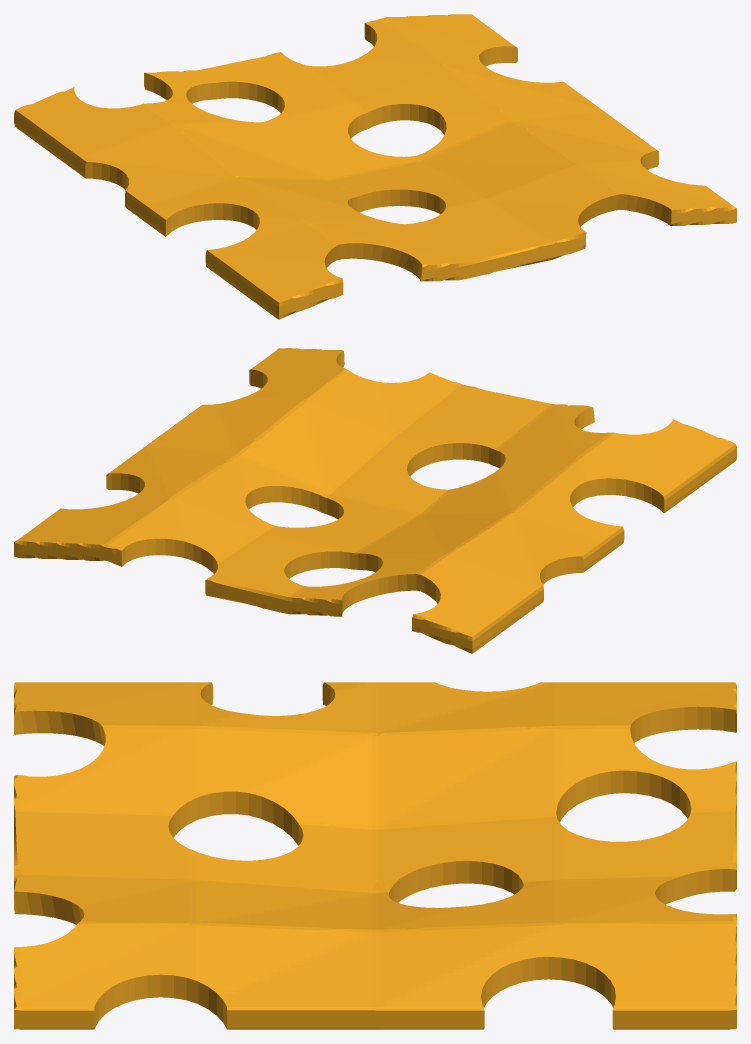
Rendered from cheddarCheese.glb.
3 views of the same model, one above another, from view 1: azimuth 30°, elevation 25°; view 2: azimuth 150°, elevation 25°; view 3: azimuth 270°, elevation 25° (orthographic). The views are drawn at different scales.
Visible parts, largest first — view 1: buffer_0_mesh_0_prim5.001; view 2: buffer_0_mesh_0_prim5.001; view 3: buffer_0_mesh_0_prim5.001.
Boxes of the visible parts, x1,y1,x2,y2 form: buffer_0_mesh_0_prim5.001: [14, 14, 736, 319]; buffer_0_mesh_0_prim5.001: [14, 348, 736, 653]; buffer_0_mesh_0_prim5.001: [14, 682, 736, 1029].
Bounding box in the file's own units: 10.7 × 1.1 × 10.7.
